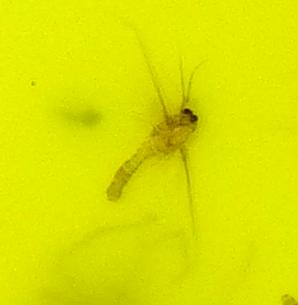Ephemeroptera: (100, 100, 198, 205)
